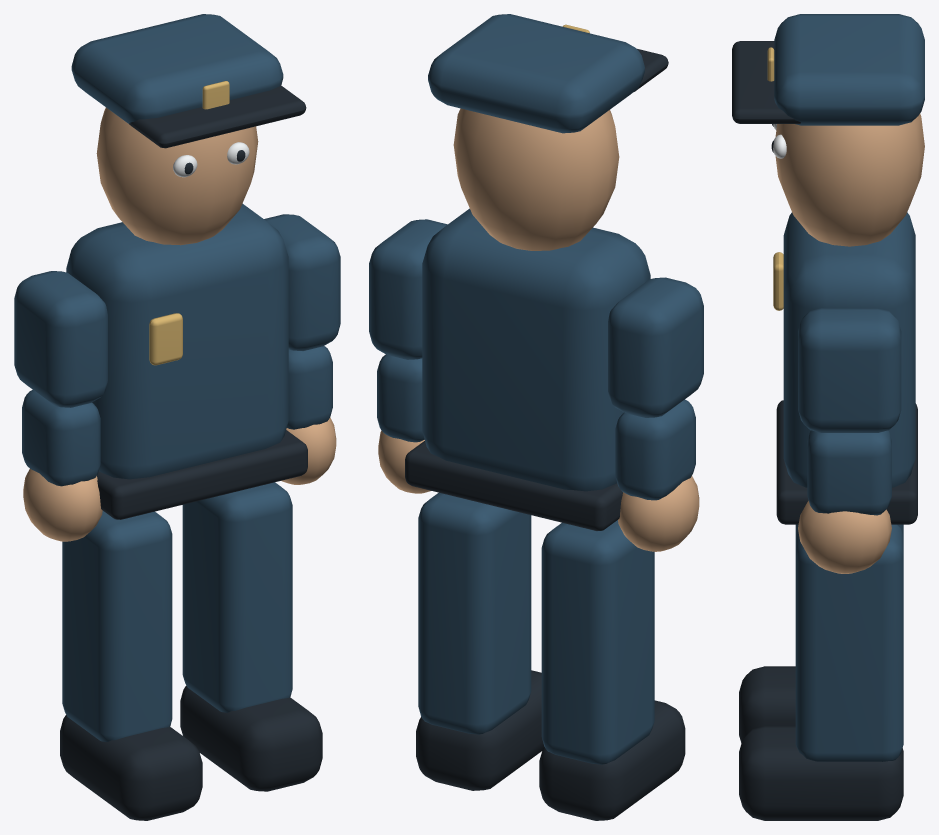
The model's file is branch-guard.glb.
3 views of the same model, side by side, from view 1: azimuth 30°, elevation 25°; view 2: azimuth 150°, elevation 25°; view 3: azimuth 270°, elevation 25° (orthographic). The views are drawn at different scales.
Visible parts, largest first — view 1: Guard_Torso, Guard_Trouser_R, Guard_Trouser_L, Guard_Cap, Guard_Head, Guard_Sleeve_L, Guard_Boot_L, Guard_Boot_R, Guard_Belt, Guard_Sleeve_R, Guard_Forearm_L, Guard_Cap_Visor (+5 smaller); view 2: Guard_Torso, Guard_Trouser_L, Guard_Trouser_R, Guard_Head, Guard_Cap, Guard_Sleeve_L, Guard_Boot_L, Guard_Belt, Guard_Boot_R, Guard_Sleeve_R, Guard_Forearm_L, Guard_Hand_L (+3 smaller); view 3: Guard_Trouser_R, Guard_Torso, Guard_Cap, Guard_Head, Guard_Sleeve_R, Guard_Boot_R, Guard_Forearm_R, Guard_Hand_R, Guard_Cap_Visor, Guard_Boot_L, Guard_Belt, Guard_Badge.
Boxes of the visible parts, x1=… form: Guard_Torso: x1=66, y1=203, x2=288, y2=479; Guard_Trouser_R: x1=182, y1=482, x2=292, y2=712; Guard_Trouser_L: x1=62, y1=511, x2=172, y2=742; Guard_Cap: x1=71, y1=14, x2=283, y2=123; Guard_Head: x1=96, y1=107, x2=258, y2=245; Guard_Sleeve_L: x1=14, y1=271, x2=107, y2=407; Guard_Boot_L: x1=60, y1=715, x2=202, y2=820; Guard_Boot_R: x1=180, y1=685, x2=322, y2=791; Guard_Belt: x1=97, y1=430, x2=307, y2=519; Guard_Sleeve_R: x1=264, y1=214, x2=340, y2=350; Guard_Forearm_L: x1=22, y1=390, x2=100, y2=486; Guard_Cap_Visor: x1=129, y1=85, x2=306, y2=148; Guard_Torso: x1=422, y1=208, x2=650, y2=491; Guard_Trouser_L: x1=541, y1=520, x2=654, y2=764; Guard_Trouser_R: x1=418, y1=492, x2=531, y2=734; Guard_Head: x1=453, y1=108, x2=619, y2=250; Guard_Cap: x1=428, y1=14, x2=644, y2=133; Guard_Sleeve_L: x1=608, y1=277, x2=703, y2=417; Guard_Boot_L: x1=539, y1=700, x2=685, y2=820; Guard_Belt: x1=405, y1=441, x2=622, y2=530; Guard_Boot_R: x1=416, y1=670, x2=544, y2=790; Guard_Sleeve_R: x1=369, y1=219, x2=447, y2=359; Guard_Forearm_L: x1=615, y1=399, x2=695, y2=500; Guard_Hand_L: x1=618, y1=476, x2=699, y2=551; Guard_Trouser_R: x1=795, y1=524, x2=903, y2=761; Guard_Torso: x1=783, y1=212, x2=915, y2=487; Guard_Cap: x1=774, y1=14, x2=924, y2=125; Guard_Head: x1=775, y1=113, x2=924, y2=246; Guard_Sleeve_R: x1=798, y1=308, x2=901, y2=432; Guard_Boot_R: x1=739, y1=726, x2=903, y2=820; Guard_Forearm_R: x1=807, y1=430, x2=891, y2=515; Guard_Hand_R: x1=798, y1=500, x2=891, y2=573; Guard_Cap_Visor: x1=732, y1=41, x2=800, y2=123; Guard_Boot_L: x1=739, y1=666, x2=795, y2=743; Guard_Belt: x1=776, y1=400, x2=917, y2=524; Guard_Badge: x1=773, y1=252, x2=783, y2=310.
Size of the model in its own units: 0.75 by 1.72 by 0.41.
